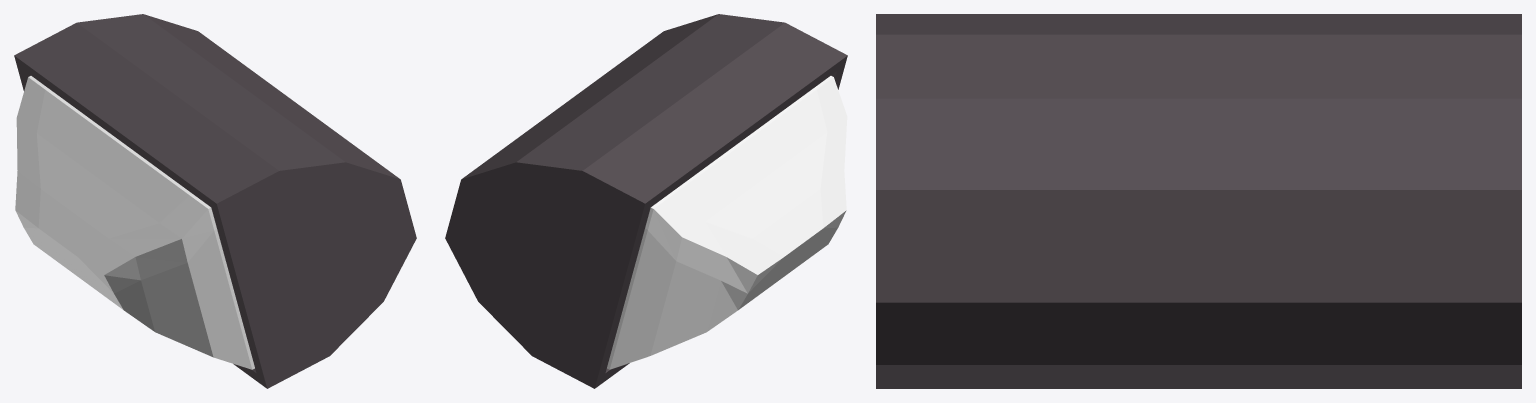
Rendered from SM_lamp_qd_02.fbx.
The picture shows the model from 3 angles, left to right: view 1: azimuth 30°, elevation 25°; view 2: azimuth 150°, elevation 25°; view 3: azimuth 270°, elevation 25°; orthographic projection. The views are drawn at different scales.
Visible parts, largest first — view 1: lamp_qd_02; view 2: lamp_qd_02; view 3: lamp_qd_02.
Part boxes in pixels (x1,y1,x2,y2): lamp_qd_02: (14,14,416,388); lamp_qd_02: (445,14,847,388); lamp_qd_02: (876,14,1521,388).
Bounding box in the file's own units: 44.25 × 35.35 × 60.36.
